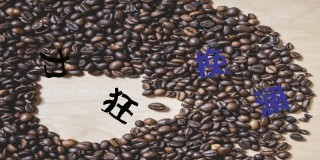力: (37, 47, 73, 77)
挽: (194, 48, 228, 79)
澜: (253, 83, 291, 117)
狂: (102, 87, 140, 126)
